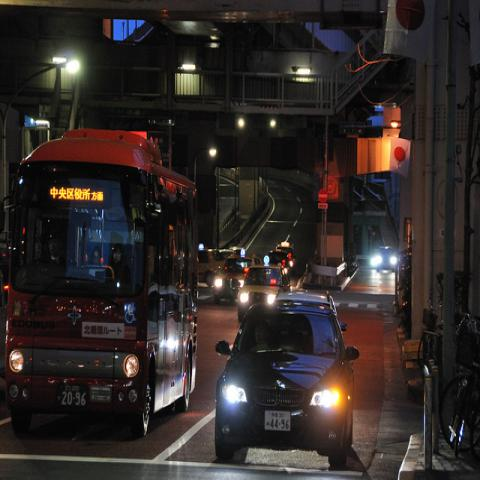bus: (6, 142, 200, 418)
car: (216, 302, 360, 466), (239, 268, 285, 320), (212, 253, 255, 299), (270, 291, 335, 312), (209, 246, 245, 272), (268, 252, 296, 272), (376, 246, 394, 272), (199, 250, 213, 282)
